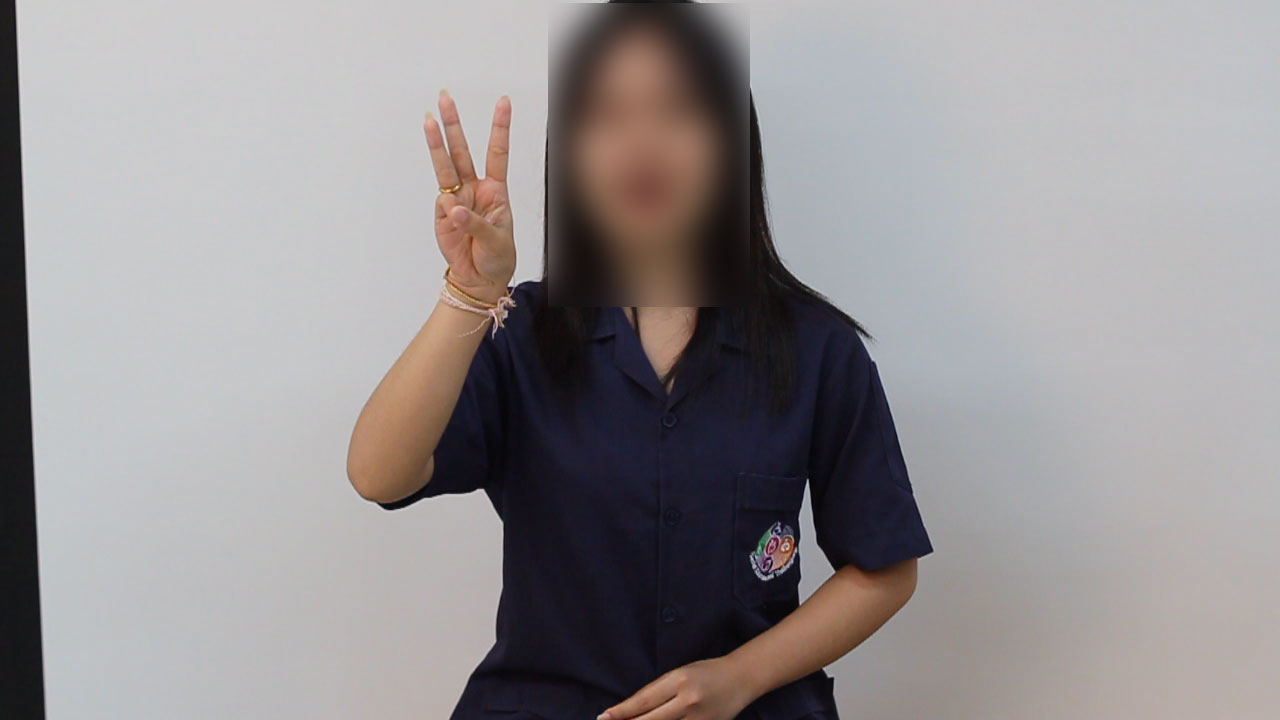wor: (411, 81, 523, 302)
